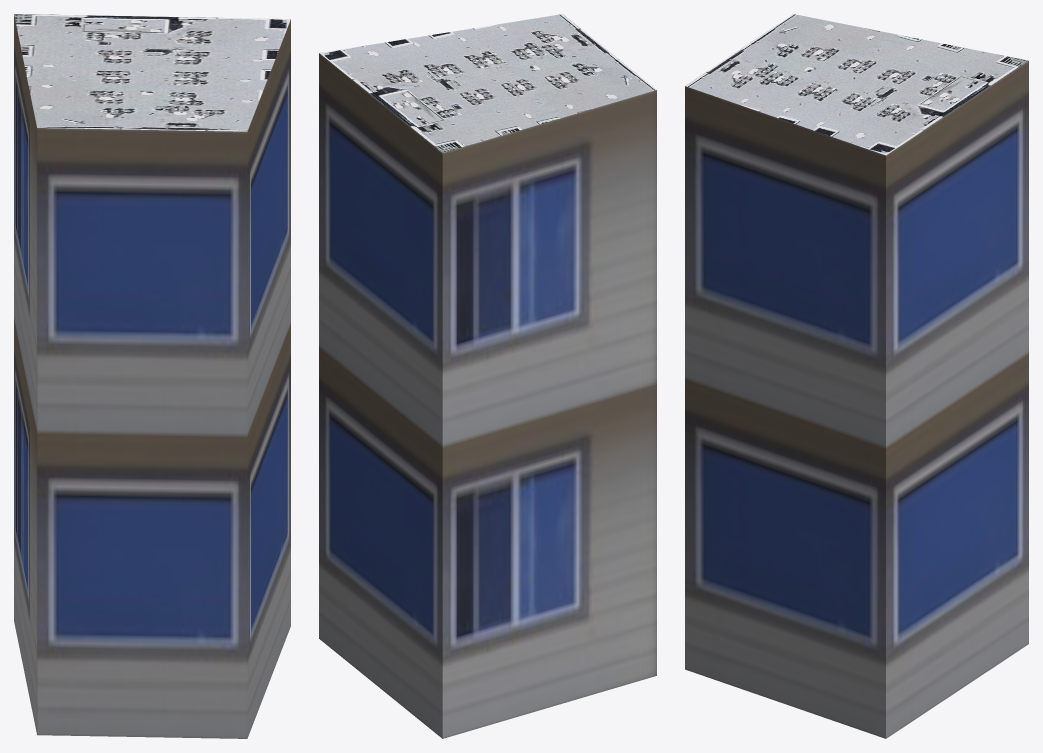
File: ResTex__1183.fbx
3 views of the same model, side by side, from view 1: azimuth 30°, elevation 25°; view 2: azimuth 150°, elevation 25°; view 3: azimuth 270°, elevation 25° (orthographic). The views are drawn at different scales.
Visible parts, largest first — view 1: CityEngineMaterial_23_m, CityEngineMaterial_m; view 2: CityEngineMaterial_23_m, CityEngineMaterial_m; view 3: CityEngineMaterial_23_m, CityEngineMaterial_m.
Boxes of the visible parts, box(x1,y1,x2,y2) form: CityEngineMaterial_23_m: box(14, 14, 290, 738); CityEngineMaterial_m: box(14, 14, 290, 131); CityEngineMaterial_23_m: box(319, 53, 656, 738); CityEngineMaterial_m: box(319, 14, 656, 152); CityEngineMaterial_23_m: box(685, 61, 1028, 738); CityEngineMaterial_m: box(685, 14, 1028, 155).
Bounding box in the file's own units: 3.12 × 6 × 3.21.
Materials: 2 (2 with a texture image).
